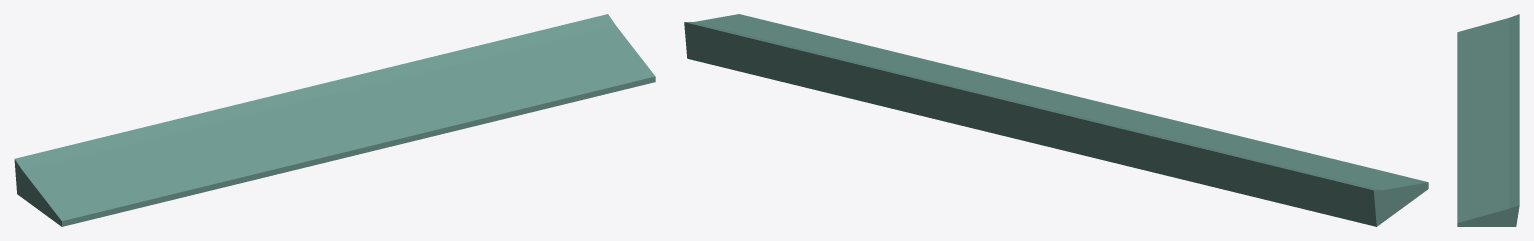
File: ridgeback_4x4.glb
3 views of the same model, side by side, from view 1: azimuth 30°, elevation 25°; view 2: azimuth 150°, elevation 25°; view 3: azimuth 270°, elevation 25° (orthographic). The views are drawn at different scales.
Visible parts, largest first — view 1: wing_element; view 2: wing_element; view 3: wing_element.
Part boxes in pixels (x1=…): wing_element: x1=14, y1=14, x2=655, y2=226; wing_element: x1=684, y1=14, x2=1428, y2=226; wing_element: x1=1457, y1=14, x2=1519, y2=226.
Bounding box in the file's own units: 1.3 × 0.07 × 0.18.
